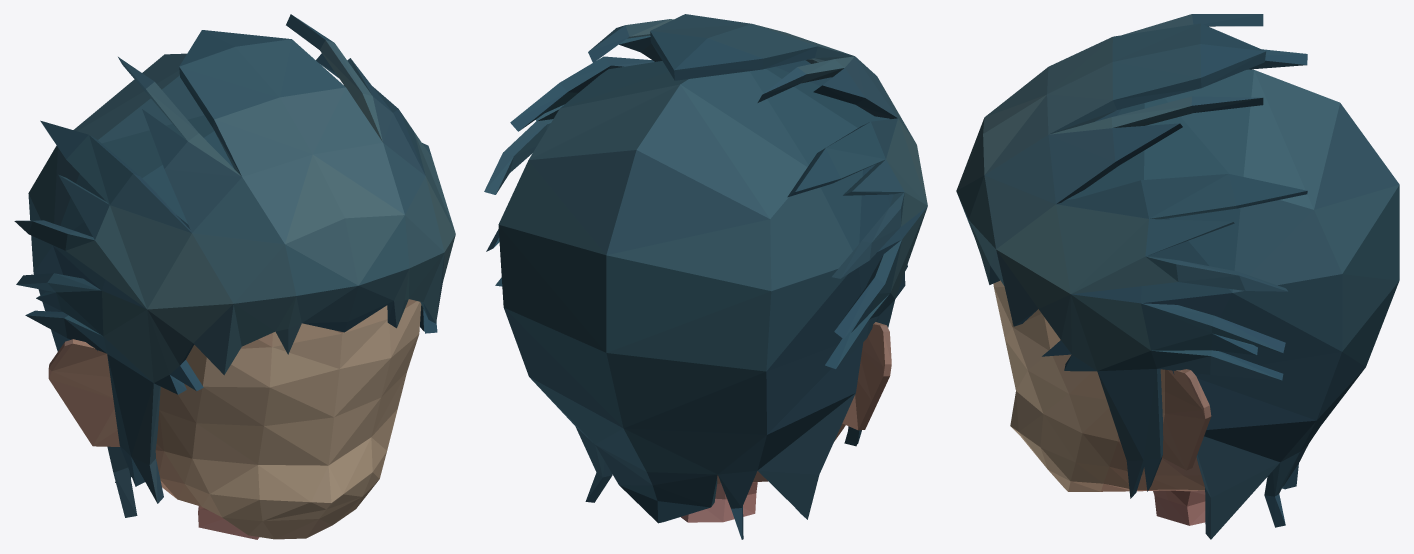
Rendered from helm_lightskin_spike_blue.fbx.
3 views of the same model, side by side, from view 1: azimuth 30°, elevation 25°; view 2: azimuth 150°, elevation 25°; view 3: azimuth 270°, elevation 25° (orthographic).
Visible parts, largest first — view 1: helm_lightskin_spike_blue; view 2: helm_lightskin_spike_blue; view 3: helm_lightskin_spike_blue.
Part boxes in pixels (bbox=[...]): helm_lightskin_spike_blue: bbox=[14, 14, 455, 539]; helm_lightskin_spike_blue: bbox=[484, 14, 927, 539]; helm_lightskin_spike_blue: bbox=[956, 14, 1399, 539].
Size of the model in its own units: 1.13 by 1.39 by 1.18.
